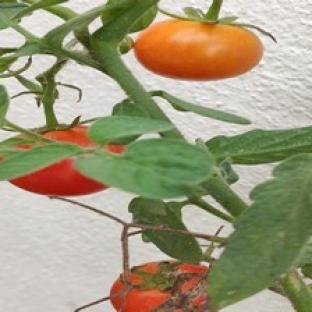Tomato: (134, 20, 263, 80), (111, 262, 208, 311), (10, 158, 107, 196)
